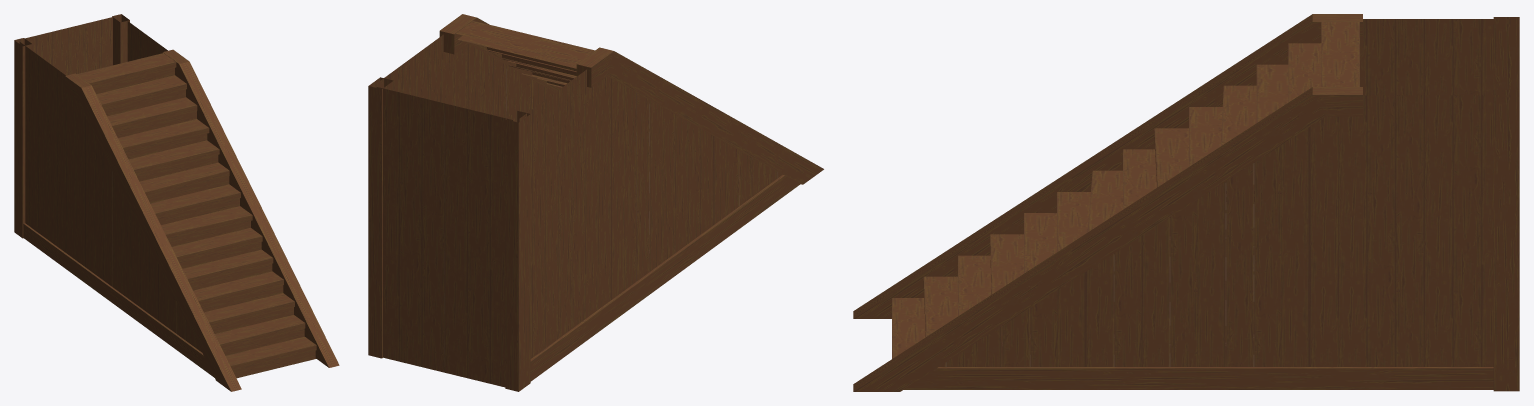
Rendered from Stair_Interior_SolidExtended.gltf.
3 views of the same model, side by side, from view 1: azimuth 30°, elevation 25°; view 2: azimuth 150°, elevation 25°; view 3: azimuth 270°, elevation 25° (orthographic). The views are drawn at different scales.
Parts seen in each view (by area): view 1: Stair_Interior_SolidExtended; view 2: Stair_Interior_SolidExtended; view 3: Stair_Interior_SolidExtended.
Part boxes in pixels (box(x1,y1,x2,y2)): Stair_Interior_SolidExtended: box(14, 14, 339, 391); Stair_Interior_SolidExtended: box(368, 14, 823, 391); Stair_Interior_SolidExtended: box(853, 14, 1519, 391).
Size of the model in its own units: 1.77 by 3.05 by 6.16.
Materials: 1 (1 with a texture image).
